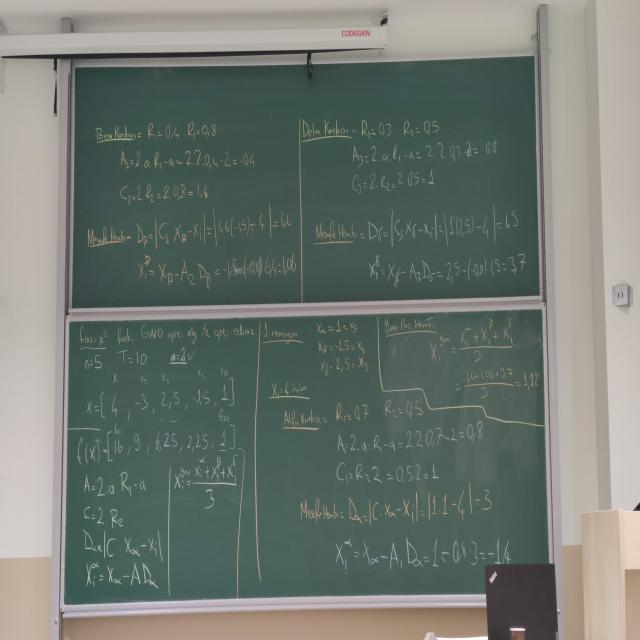math: (334, 498, 514, 576), (331, 399, 488, 485), (136, 213, 298, 290), (365, 210, 527, 282), (351, 117, 502, 192), (80, 472, 166, 596), (84, 369, 238, 425), (119, 146, 259, 203), (78, 422, 235, 464), (428, 316, 518, 366), (173, 451, 240, 516), (314, 319, 372, 375), (116, 343, 196, 378), (465, 368, 541, 401), (146, 118, 218, 142), (76, 324, 110, 374), (268, 377, 309, 403)
text: (116, 324, 256, 346), (312, 219, 361, 249), (301, 115, 352, 143), (381, 316, 438, 340), (85, 223, 130, 253), (296, 496, 342, 524), (258, 318, 302, 347), (282, 407, 323, 431), (92, 125, 138, 142)
